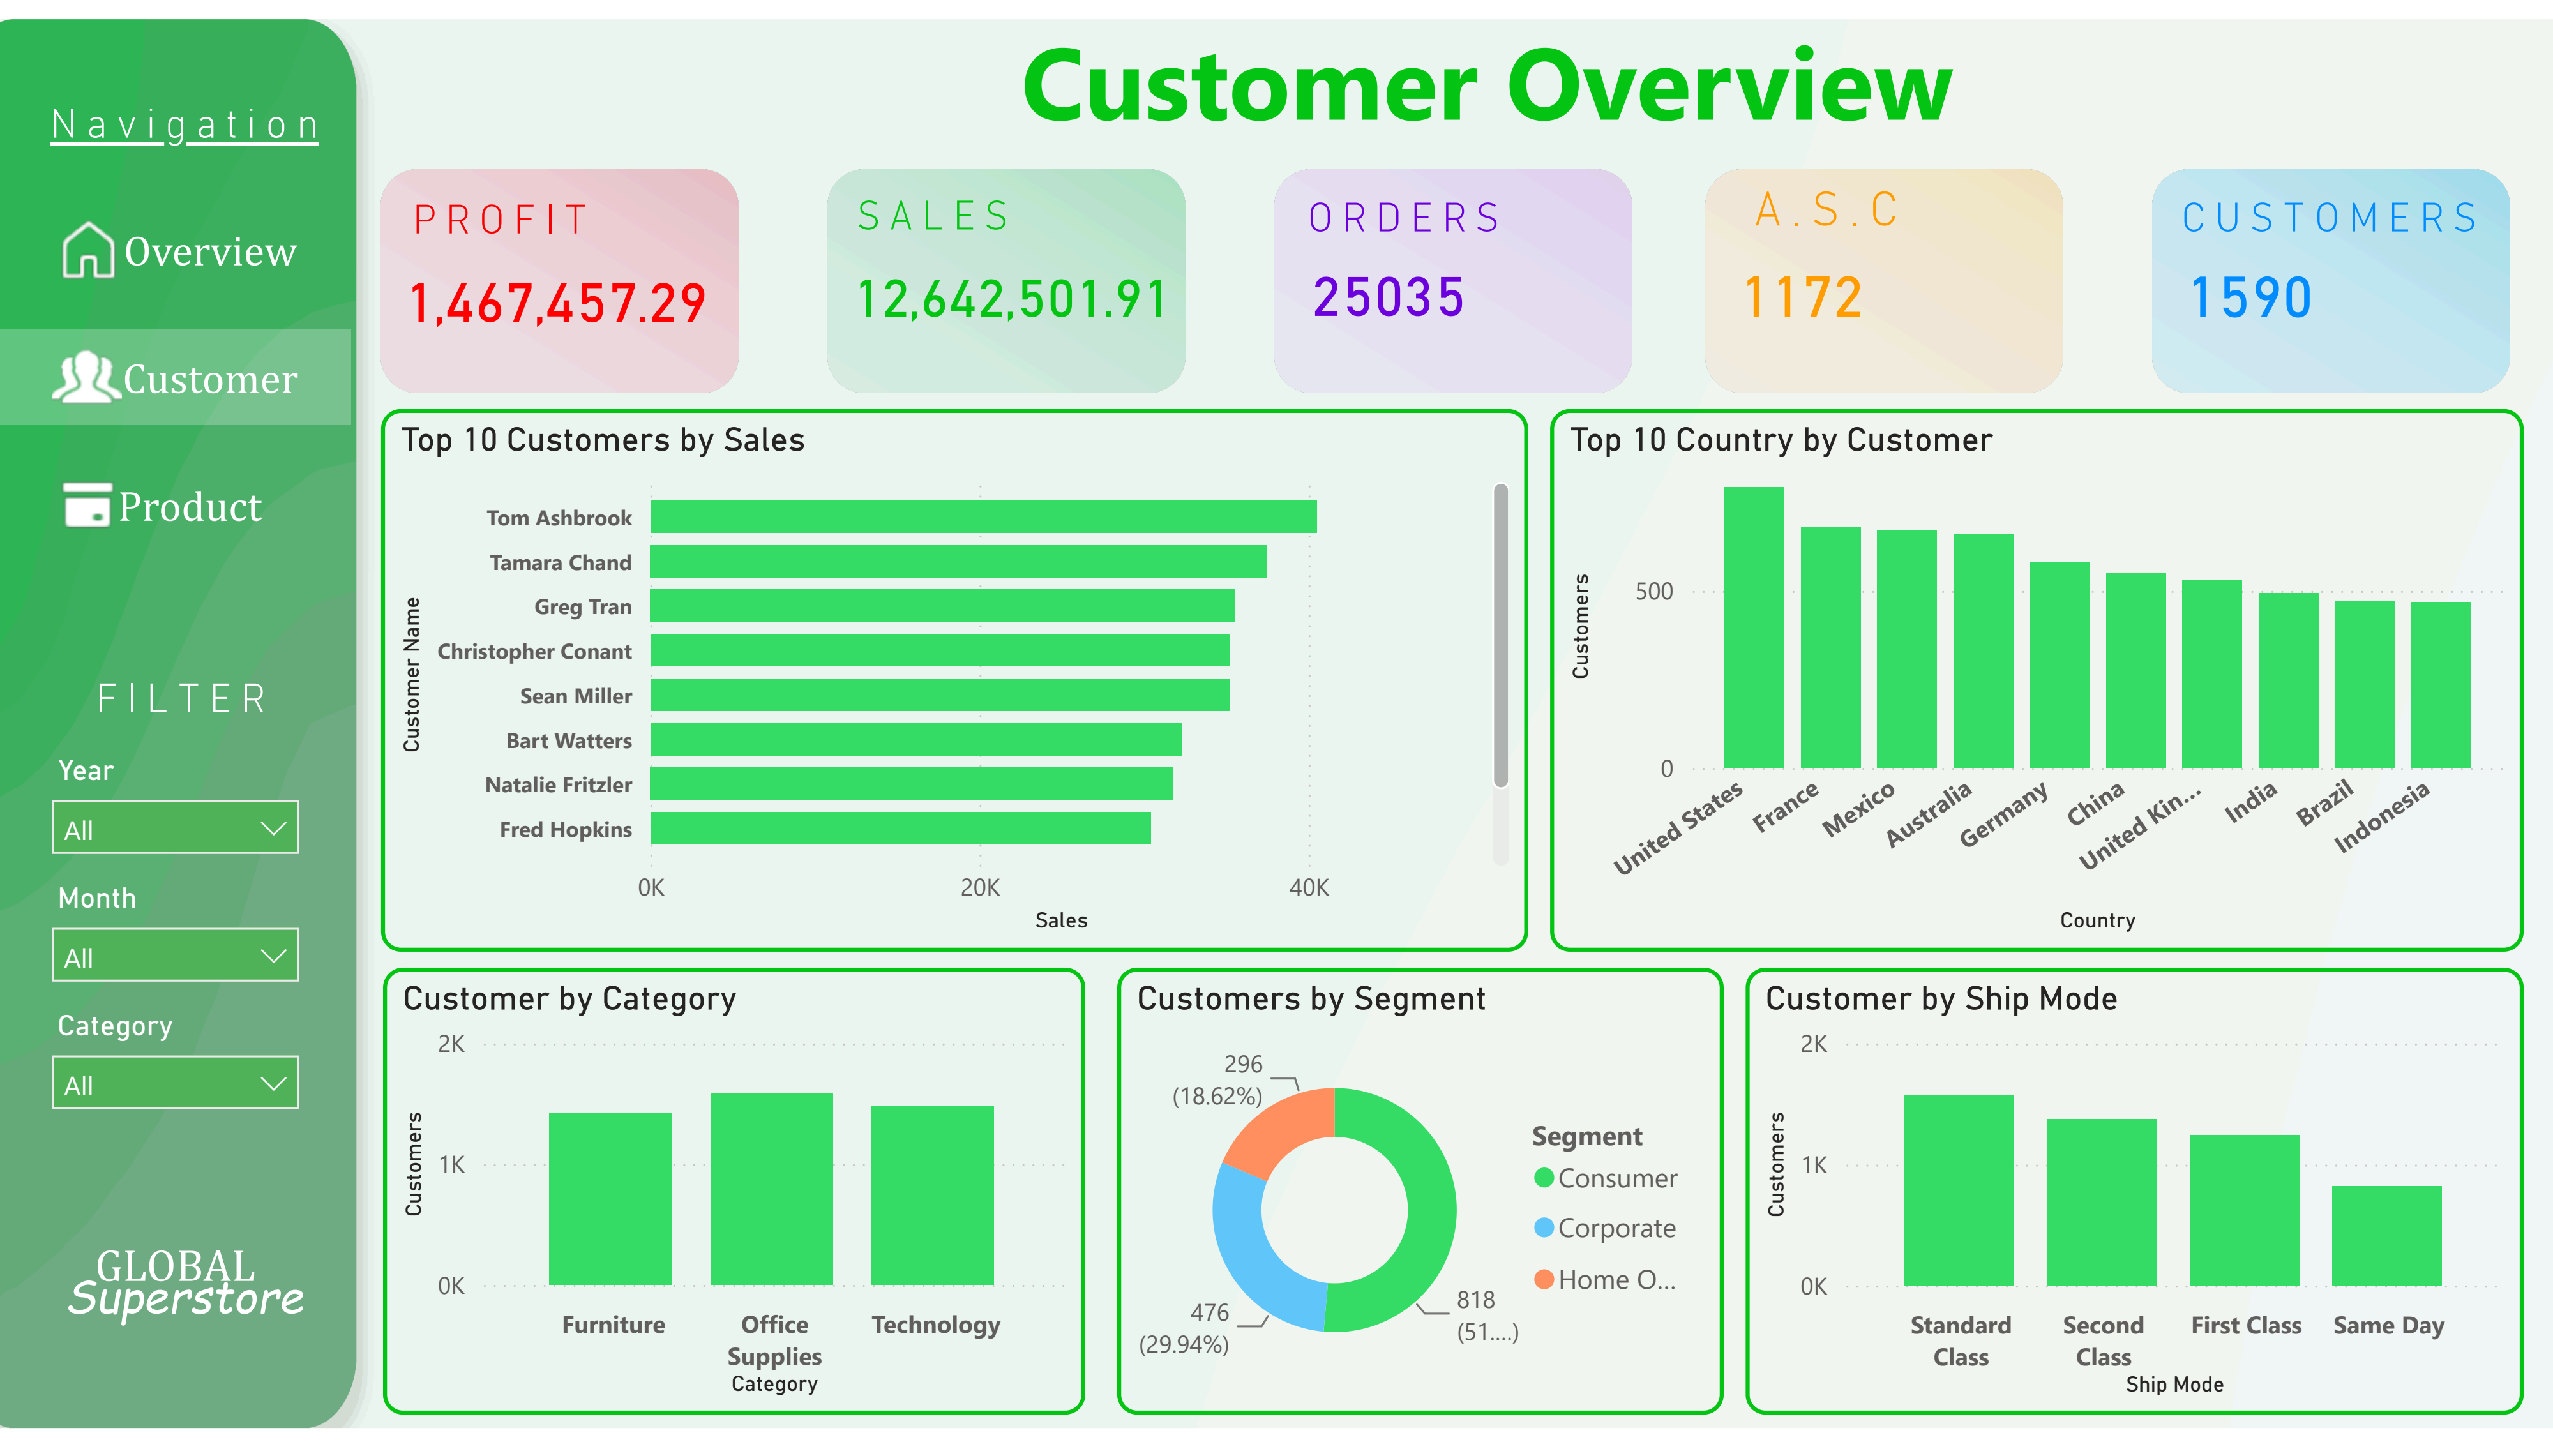

The page's visual inventory and layout, read from the dashboard file:
{"tool":"powerbi","page":{"name":"Page 3","canvas":[1280,720],"ordinal":7},"visuals":[{"type":"card","fields":{"Values":["Calculation.Average Sales per Customer"]},"box":[285.2,58.8,173.5,82.3],"z":0},{"type":"barChart","fields":{"Category":["globalsuperstore.Customer Name"],"Y":["Calculation.Total_sales"]},"box":[515.9,16.2,596.8,299.9],"z":1},{"type":"columnChart","fields":{"Category":["globalsuperstore.Country"],"Y":["Calculation.Total_customer"]},"box":[185.2,380.7,483.6,299.9],"z":2},{"type":"columnChart","fields":{"Category":["globalsuperstore.Ship Mode"],"Y":["Calculation.Total_customer"]},"box":[755.5,380.7,427.7,299.9],"z":3}]}

Visuals, with their boxes in screenshot pixels (x1, y1, x2, y2), scaled from the page's 1280x720 canvas onto the 2553x1456 screenshot:
card - Calculation.Average Sales per Customer: (569, 119, 915, 285)
barChart - globalsuperstore.Customer Name x Calculation.Total_sales: (1029, 33, 2219, 639)
columnChart - globalsuperstore.Country x Calculation.Total_customer: (370, 770, 1334, 1376)
columnChart - globalsuperstore.Ship Mode x Calculation.Total_customer: (1507, 770, 2360, 1376)
